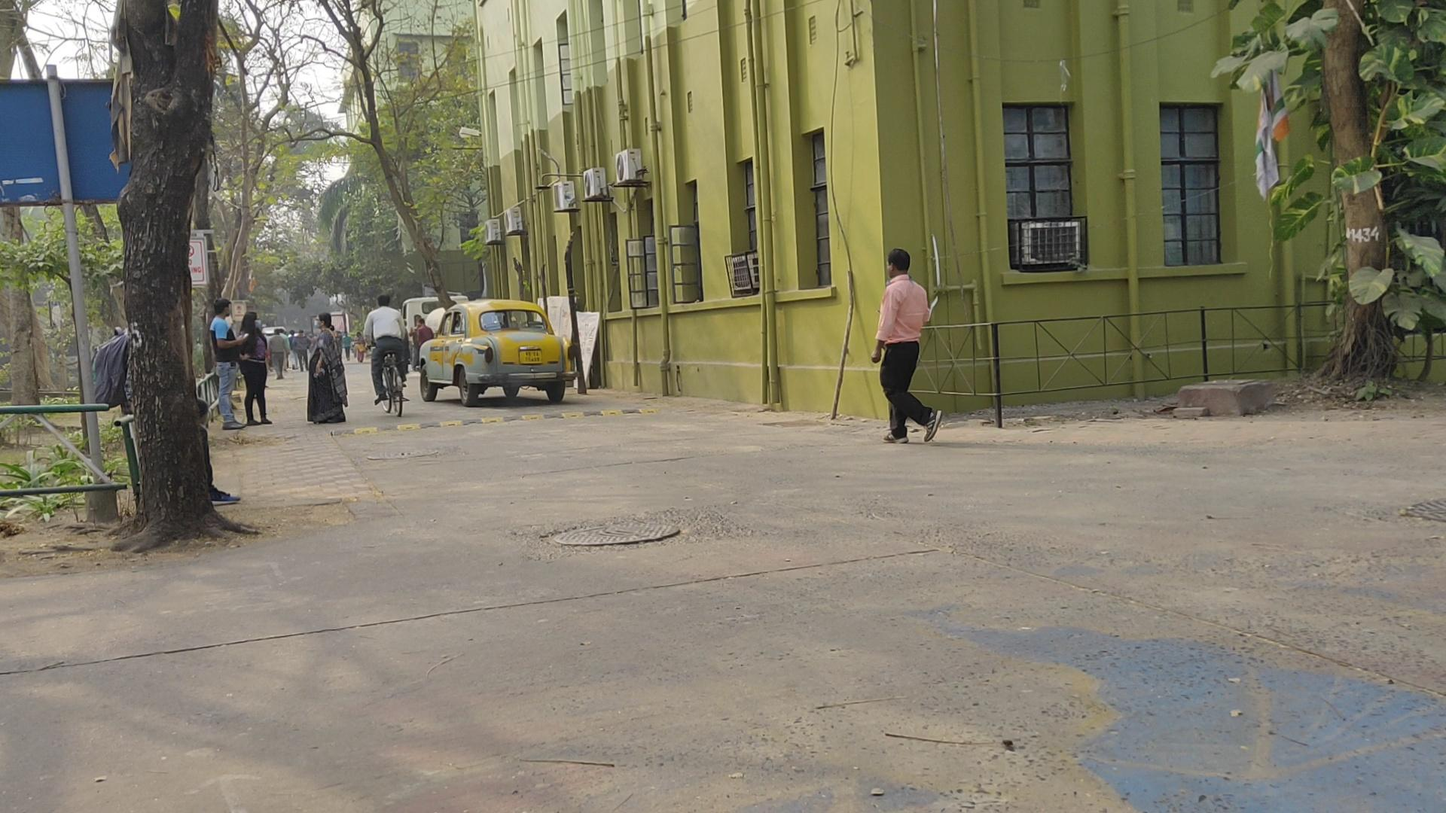bike: (362, 291, 412, 419)
car: (418, 297, 577, 409)
